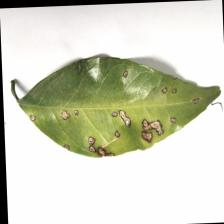canker: (28, 61, 201, 161)
